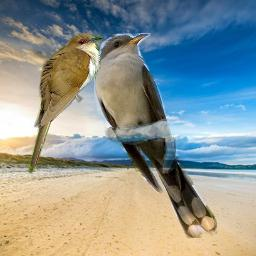Cuckoo: (94, 33, 217, 238), (27, 33, 103, 174)
